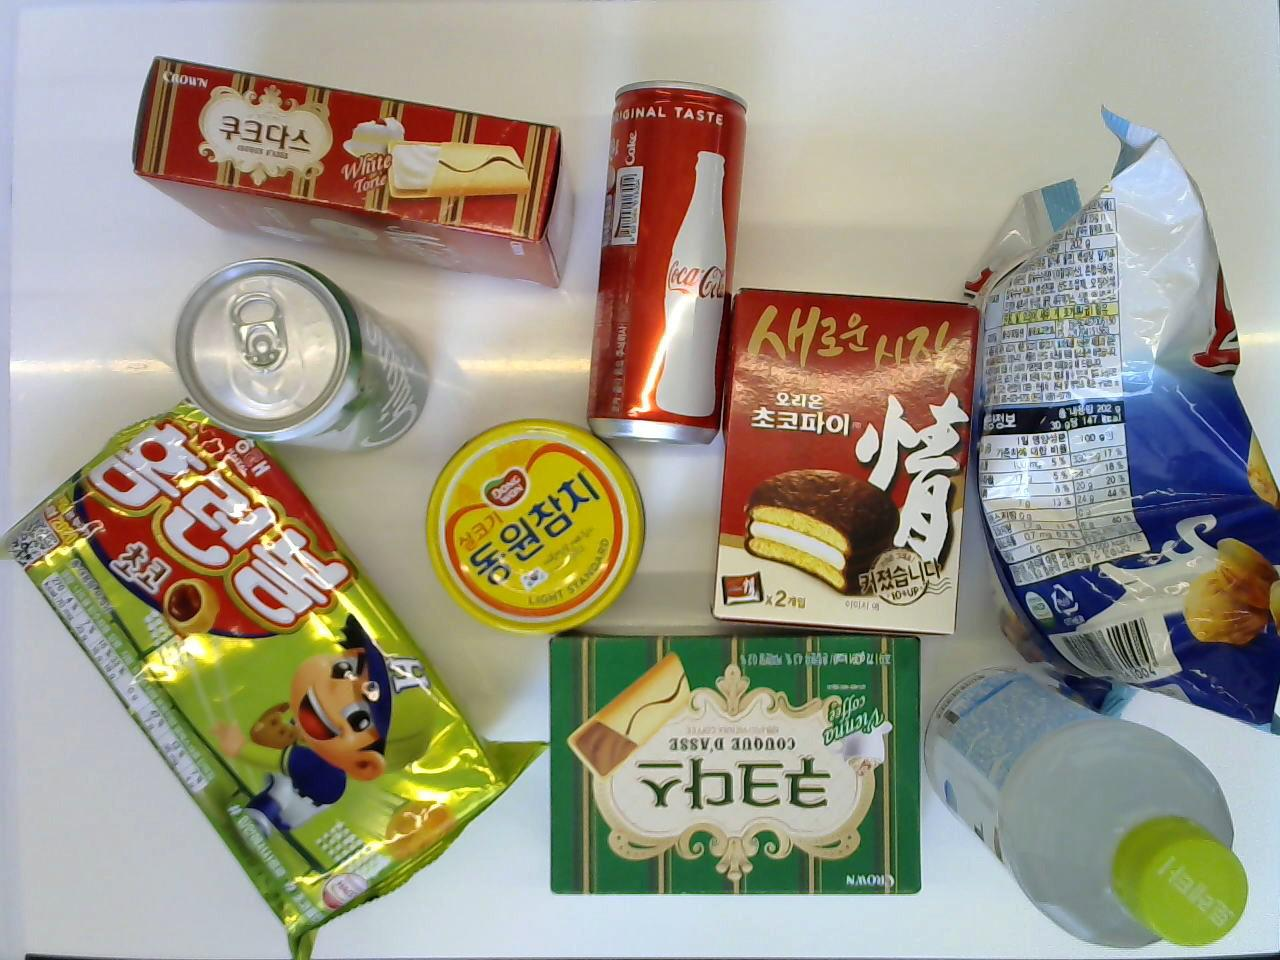chocopie: (705, 282, 981, 632)
cidar: (170, 252, 434, 460)
coke: (583, 80, 749, 449)
couque_coffee: (543, 630, 927, 901)
couque_white: (131, 51, 578, 293)
homerunball: (2, 391, 551, 960)
squid_peanut: (956, 97, 1280, 733)
toreta: (917, 659, 1257, 951)
tuna: (424, 415, 652, 641)
